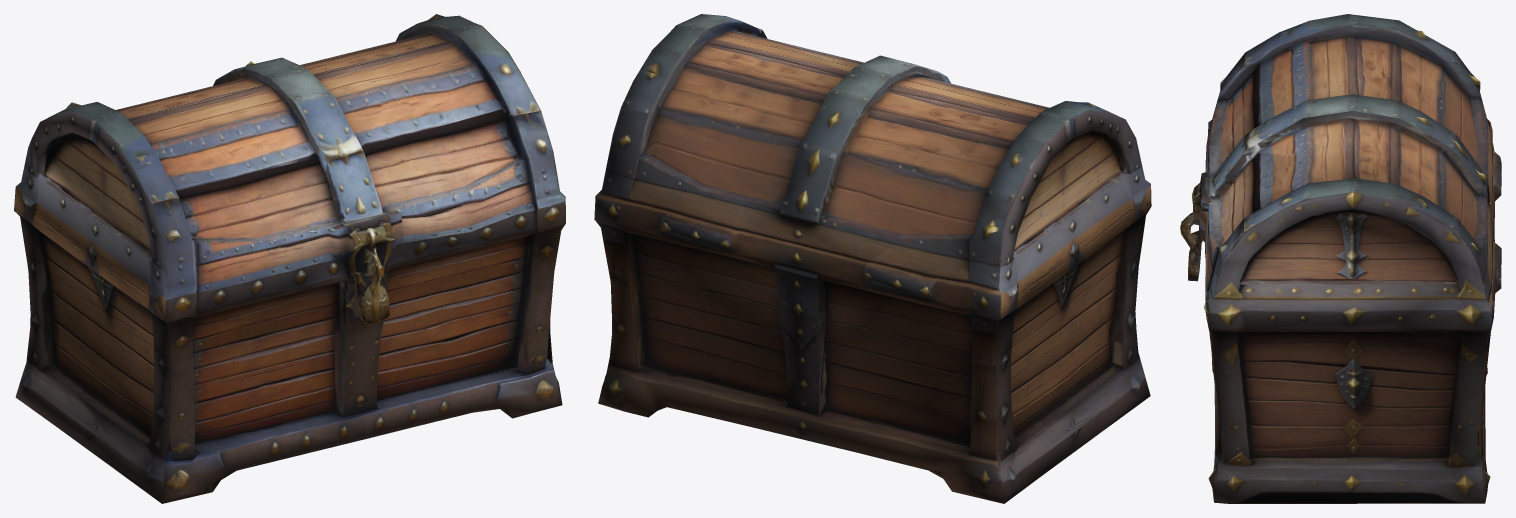
The model's file is chest.fbx.
The picture shows the model from 3 angles, left to right: view 1: azimuth 30°, elevation 25°; view 2: azimuth 150°, elevation 25°; view 3: azimuth 270°, elevation 25°; orthographic projection. The views are drawn at different scales.
Parts seen in each view (by area): view 1: Mesh_0; view 2: Mesh_0; view 3: Mesh_0.
Boxes of the visible parts, left/top/right/bottom form: Mesh_0: left=14, top=14, right=565, bottom=503; Mesh_0: left=594, top=14, right=1151, bottom=503; Mesh_0: left=1180, top=14, right=1501, bottom=503.
Size of the model in its own units: 94.75 by 73.31 by 68.49.
Materials: 1 (1 with a texture image).
